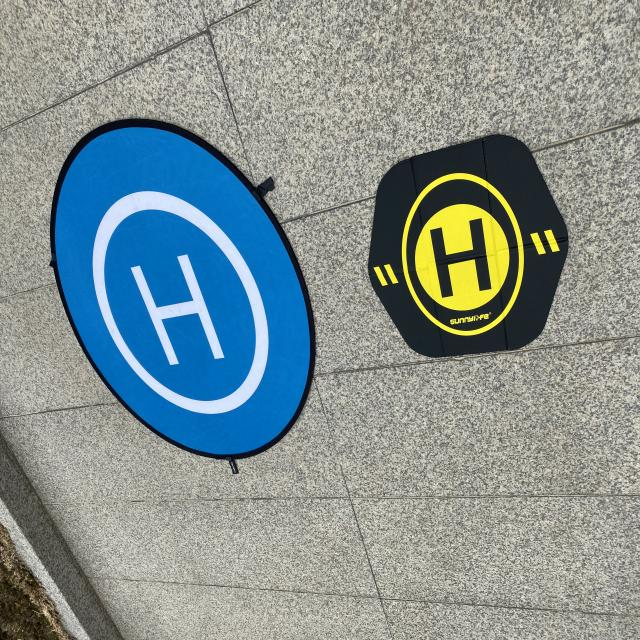helipad: (86, 180, 274, 425), (395, 161, 529, 345)
